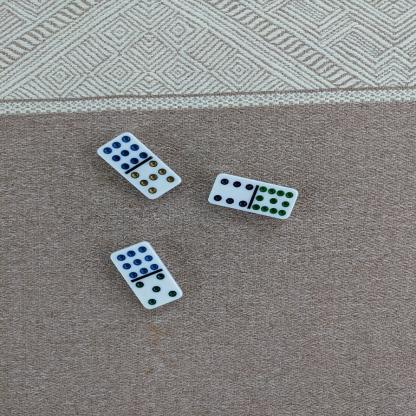pip-11: (251, 185, 298, 219)
pip-5: (135, 272, 182, 310)
pip-6: (206, 173, 254, 208)
pip-7: (128, 160, 181, 200)
pip-9: (97, 132, 147, 170), (110, 240, 158, 279)
